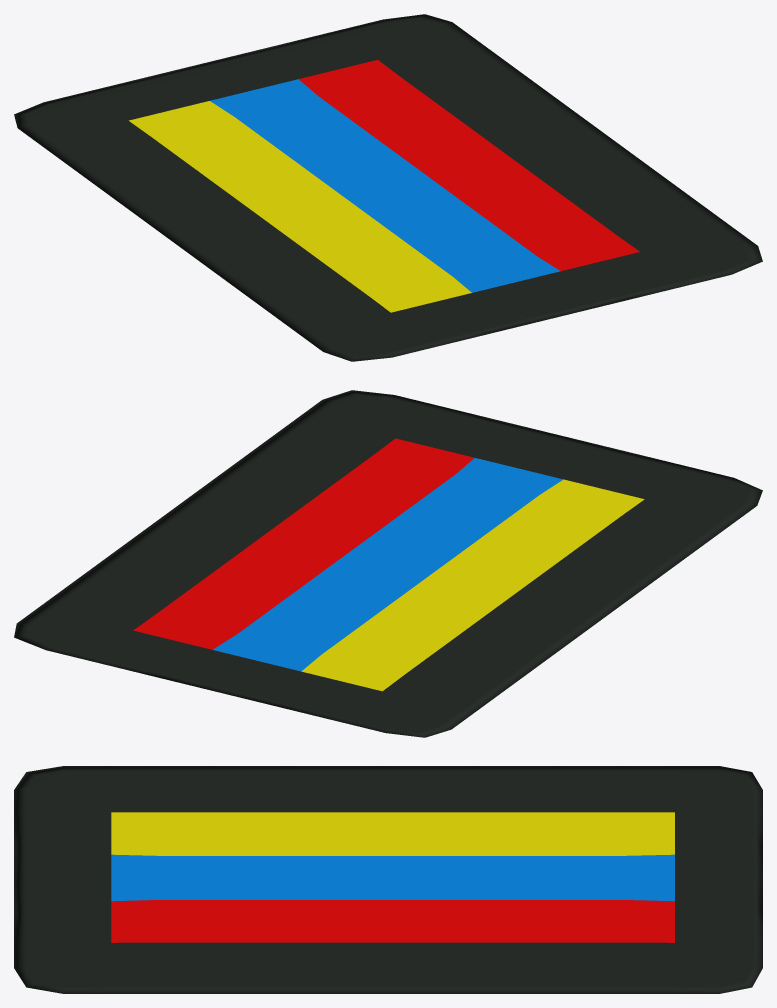
The model's file is WelcomeRug.fbx.
3 views of the same model, one above another, from view 1: azimuth 30°, elevation 25°; view 2: azimuth 150°, elevation 25°; view 3: azimuth 270°, elevation 25° (orthographic). The views are drawn at different scales.
Parts seen in each view (by area): view 1: pPlane1; view 2: pPlane1; view 3: pPlane1.
Part boxes in pixels (x1,y1,x2,y2): pPlane1: (14, 14, 762, 361); pPlane1: (14, 390, 762, 737); pPlane1: (14, 766, 762, 993).
Size of the model in its own units: 2.93 by 0.0125 by 4.07.
